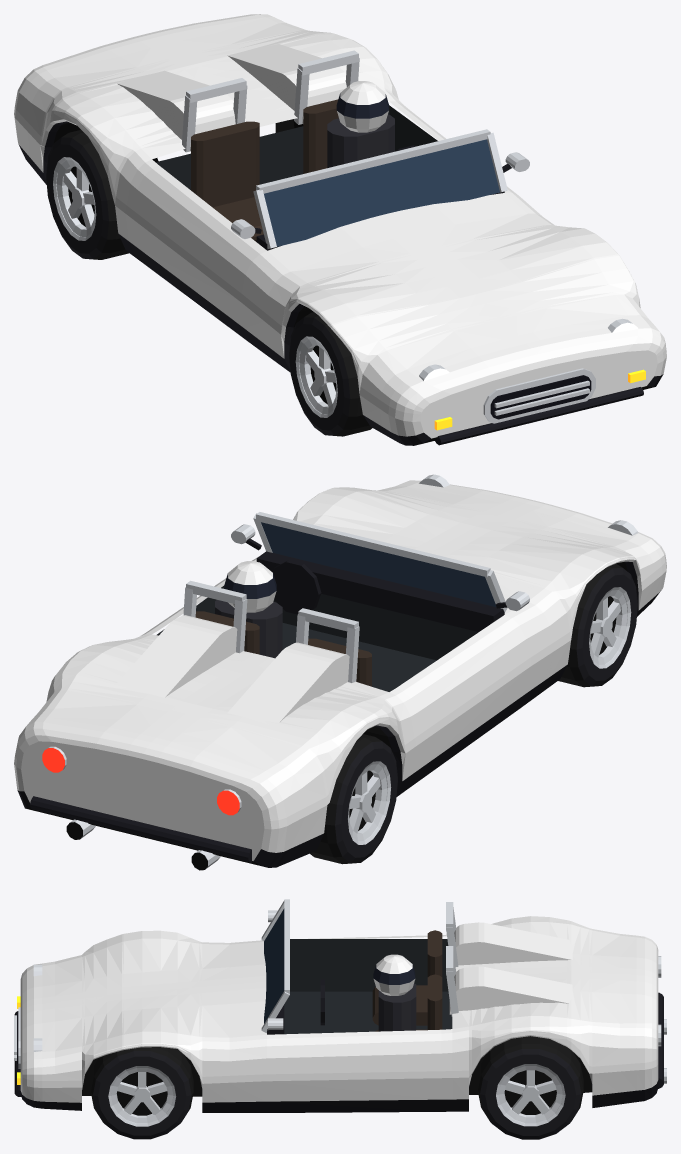
File: roadster.glb
The picture shows the model from 3 angles, top to bottom: view 1: azimuth 30°, elevation 25°; view 2: azimuth 150°, elevation 25°; view 3: azimuth 270°, elevation 25°; orthographic projection. The views are drawn at different scales.
Visible parts, largest first — view 1: paint, stripe_a, chrome (×3), glass, interior_seat, tire_side (×2), trim, interior, stripe_b, tire (×2), trim_soft, trim_grille (+3 smaller); view 2: paint, trim, chrome (×3), stripe_a, interior, glass, tire_side (×2), stripe_b, tire (×2), interior_seat, trim_soft, accent (+3 smaller); view 3: paint, interior, stripe_a, chrome (×3), tire_side (×2), trim, stripe_b, tire (×2), trim_under (×3), interior_seat, glass, trim_soft (+2 smaller).
Part boxes in pixels (box(x1,y1,x2,y2)): paint: box(14, 14, 666, 438); stripe_a: box(100, 23, 585, 380); chrome (×3): box(53, 50, 632, 423); glass: box(264, 139, 499, 246); interior_seat: box(191, 99, 338, 241); tire_side (×2): box(46, 137, 350, 435); trim: box(19, 121, 663, 445); interior: box(156, 105, 437, 189); stripe_b: box(14, 107, 666, 421); tire (×2): box(62, 130, 372, 436); trim_soft: box(327, 114, 394, 167); trim_grille: box(490, 375, 591, 419); paint: box(14, 480, 666, 860); trim: box(17, 538, 661, 867); chrome (×3): box(47, 474, 637, 869); stripe_a: box(96, 490, 580, 771); interior: box(157, 585, 478, 691); glass: box(260, 522, 496, 606); tire_side (×2): box(335, 567, 637, 863); stripe_b: box(14, 557, 666, 829); tire (×2): box(310, 563, 621, 864); interior_seat: box(195, 611, 371, 686); trim_soft: box(215, 600, 282, 658); accent: box(228, 561, 276, 612); paint: box(20, 916, 658, 1102); interior: box(284, 939, 452, 1034); stripe_a: box(20, 954, 658, 1033); chrome (×3): box(14, 899, 666, 1126); tire_side (×2): box(93, 1049, 581, 1139); trim: box(14, 979, 663, 1112); stripe_b: box(20, 1031, 658, 1087); tire (×2): box(90, 1036, 583, 1123); trim_under (×3): box(82, 1052, 592, 1115); interior_seat: box(372, 930, 442, 1031); glass: box(264, 908, 284, 1023); trim_soft: box(378, 983, 416, 1031).
Size of the model in its own units: 1.89 by 1.14 by 4.5.
